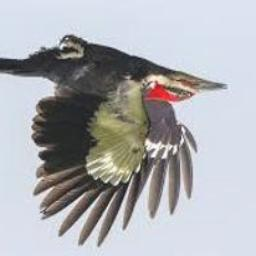Woodpecker: (0, 34, 230, 248)
